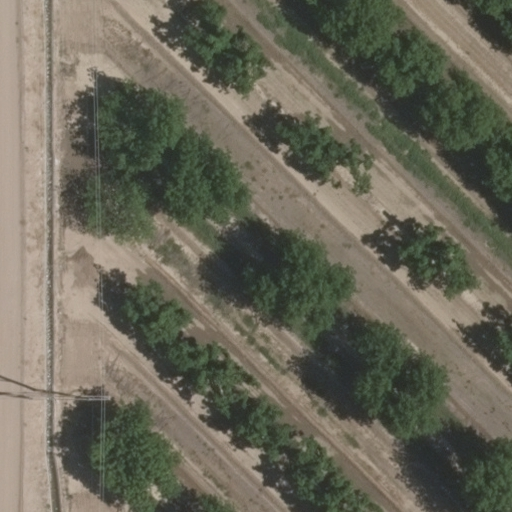DT: (3, 384, 118, 418)
